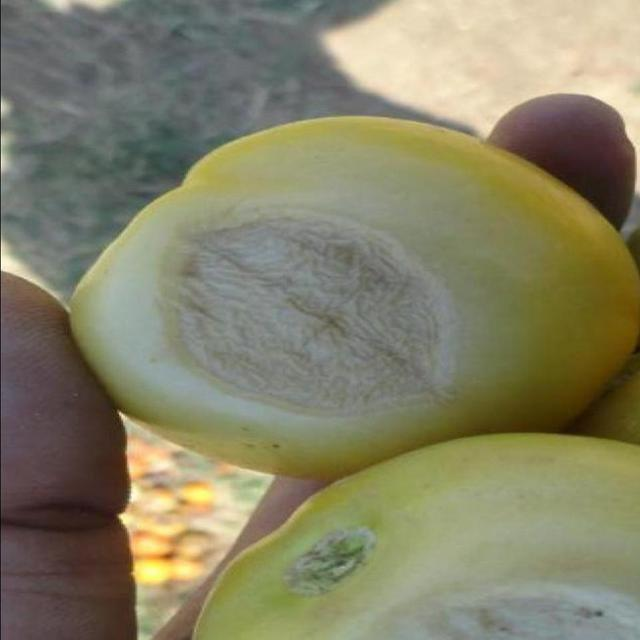Sunscald Fruit: (199, 40, 321, 407)
